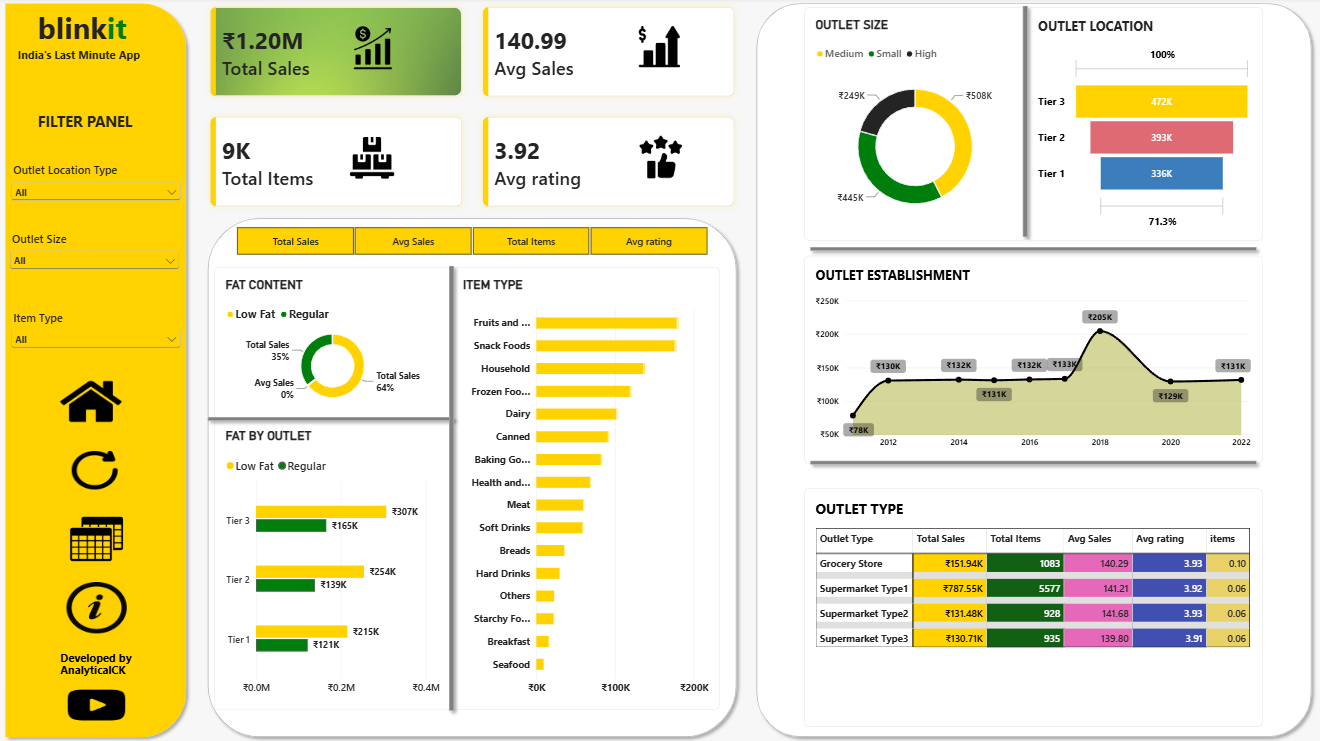

Layout of this report page (visuals, bound fields, positions):
{"tool":"powerbi","page":{"name":"Main Dashboard","canvas":[1920,1080],"ordinal":0},"visuals":[{"type":"shape","box":[0,0,279.9,1080.6],"z":0},{"type":"textbox","box":[55.6,14.4,168.8,78.2],"z":1000},{"type":"textbox","box":[26.8,72,224.4,82.3],"z":2000},{"type":"cardVisual","fields":{"Data":["BlinkIT Grocery Data.Total Sales","BlinkIT Grocery Data.Avg Sales","BlinkIT Grocery Data.Total Items","BlinkIT Grocery Data.Avg rating"]},"box":[295,3.6,781.8,311.3],"z":3000},{"type":"image","box":[508.4,41.2,65.9,63.8],"z":4000},{"type":"image","box":[919.3,39.8,74.1,63.8],"z":5000},{"type":"image","box":[504.3,201.7,70,63.8],"z":6000},{"type":"image","box":[919.3,200.9,78.2,61.7],"z":7000},{"type":"shape","box":[293.2,311.3,783.6,769.1],"z":8000},{"type":"slicer","fields":{"Values":["Parameter.Parameter"]},"box":[323.9,331.2,720.2,43.4],"z":9000},{"type":"donutChart","title":"FAT CONTENT","fields":{"Category":["BlinkIT Grocery Data.Item Fat Content"],"Y":["BlinkIT Grocery Data.Total Sales","BlinkIT Grocery Data.Avg Sales","BlinkIT Grocery Data.Total Items","BlinkIT Grocery Data.Avg rating"]},"box":[311.3,390.9,343.8,219],"z":10000},{"type":"clusteredBarChart","title":"FAT BY OUTLET","fields":{"Category":["BlinkIT Grocery Data.Outlet Location Type"],"Series":["BlinkIT Grocery Data.Item Fat Content"],"Y":["BlinkIT Grocery Data.Total Sales"]},"box":[311.3,609.9,343.8,421.7],"z":11000},{"type":"barChart","title":"ITEM TYPE","fields":{"Category":["BlinkIT Grocery Data.Item Type"],"Y":["BlinkIT Grocery Data.Total Sales","BlinkIT Grocery Data.Avg Sales","BlinkIT Grocery Data.Total Items","BlinkIT Grocery Data.Avg rating"]},"box":[655.1,390.9,389.1,640.6],"z":12000},{"type":"shape","box":[293.2,599,374.6,23.5],"z":13000},{"type":"shape","box":[642.4,380,25.3,662.3],"z":14000},{"type":"shape","box":[1087.6,0,821.6,1080.4],"z":15000},{"type":"donutChart","title":"OUTLET SIZE","fields":{"Category":["BlinkIT Grocery Data.Outlet Size"],"Y":["BlinkIT Grocery Data.Total Sales"]},"box":[1165.4,14.5,322.1,338.4],"z":16000},{"type":"funnel","title":"OUTLET LOCATION","fields":{"Category":["BlinkIT Grocery Data.Outlet Location Type"],"Y":["Sum(BlinkIT Grocery Data.Sales)"]},"box":[1487.5,14.5,342,338.4],"z":17000},{"type":"lineChart","title":"OUTLET ESTABLISHMENT","fields":{"Category":["BlinkIT Grocery Data.Outlet Establishment Year"],"Y":["BlinkIT Grocery Data.Total Sales"]},"box":[1165.4,374.6,664.1,300.4],"z":18000},{"type":"pivotTable","title":"OUTLET TYPE","fields":{"Rows":["BlinkIT Grocery Data.Outlet Type"],"Values":["BlinkIT Grocery Data.Total Sales","BlinkIT Grocery Data.Total Items","BlinkIT Grocery Data.Avg Sales","BlinkIT Grocery Data.Avg rating","Avg(BlinkIT Grocery Data.Item Visibility)"]},"box":[1165.4,711.2,664.1,345.6],"z":19000},{"type":"shape","box":[1473.1,3.6,25.3,352.9],"z":20000},{"type":"shape","box":[1165.4,352.9,664.1,23.5],"z":21000},{"type":"shape","box":[1165.4,662.3,664.1,23.5],"z":22000},{"type":"slicer","fields":{"Values":["BlinkIT Grocery Data.Outlet Location Type"]},"box":[12.7,238.9,255.2,72.4],"z":23000},{"type":"slicer","fields":{"Values":["BlinkIT Grocery Data.Outlet Size"]},"box":[10.9,338.4,255.2,72.4],"z":24000},{"type":"slicer","fields":{"Values":["BlinkIT Grocery Data.Item Type"]},"box":[12.7,452.4,255.2,72.4],"z":25000},{"type":"textbox","box":[56.1,164.7,300.4,79.6],"z":26000},{"type":"actionButton","box":[88.7,548.3,88.7,74.2],"z":27000},{"type":"actionButton","box":[94.1,647.9,88.7,74.2],"z":28000},{"type":"actionButton","box":[97.7,747.4,86.9,74.2],"z":29000},{"type":"actionButton","box":[97.7,846.9,86.9,74.2],"z":30000},{"type":"textbox","box":[88.7,944.6,300.4,34.4],"z":31000},{"type":"textbox","box":[88.7,962.7,300.4,30.8],"z":32000},{"type":"image","box":[99.5,993.5,83.2,63.3],"z":33000}]}

Visuals, with their boxes in screenshot pixels (x1, y1, x2, y2), scaled from the page's 1920x1080 canvas onto the 1320x741 screenshot:
shape: bbox=[0, 0, 192, 740]
textbox: bbox=[38, 10, 154, 64]
textbox: bbox=[18, 49, 173, 106]
cardVisual - BlinkIT Grocery Data.Total Sales x BlinkIT Grocery Data.Avg Sales: bbox=[203, 2, 740, 216]
image: bbox=[350, 28, 395, 72]
image: bbox=[632, 27, 683, 71]
image: bbox=[347, 138, 395, 182]
image: bbox=[632, 138, 686, 180]
shape: bbox=[202, 214, 740, 740]
slicer - Parameter.Parameter: bbox=[223, 227, 718, 257]
"FAT CONTENT" donutChart: bbox=[214, 268, 450, 418]
"FAT BY OUTLET" clusteredBarChart: bbox=[214, 418, 450, 708]
"ITEM TYPE" barChart: bbox=[450, 268, 718, 708]
shape: bbox=[202, 411, 459, 427]
shape: bbox=[442, 261, 459, 715]
shape: bbox=[748, 0, 1313, 740]
"OUTLET SIZE" donutChart: bbox=[801, 10, 1023, 242]
"OUTLET LOCATION" funnel: bbox=[1023, 10, 1258, 242]
"OUTLET ESTABLISHMENT" lineChart: bbox=[801, 257, 1258, 463]
"OUTLET TYPE" pivotTable: bbox=[801, 488, 1258, 725]
shape: bbox=[1013, 2, 1030, 245]
shape: bbox=[801, 242, 1258, 258]
shape: bbox=[801, 454, 1258, 471]
slicer - BlinkIT Grocery Data.Outlet Location Type: bbox=[9, 164, 184, 214]
slicer - BlinkIT Grocery Data.Outlet Size: bbox=[7, 232, 183, 282]
slicer - BlinkIT Grocery Data.Item Type: bbox=[9, 310, 184, 360]
textbox: bbox=[39, 113, 245, 168]
actionButton: bbox=[61, 376, 122, 427]
actionButton: bbox=[65, 445, 126, 495]
actionButton: bbox=[67, 513, 127, 564]
actionButton: bbox=[67, 581, 127, 632]
textbox: bbox=[61, 648, 268, 672]
textbox: bbox=[61, 661, 268, 682]
image: bbox=[68, 682, 126, 725]
